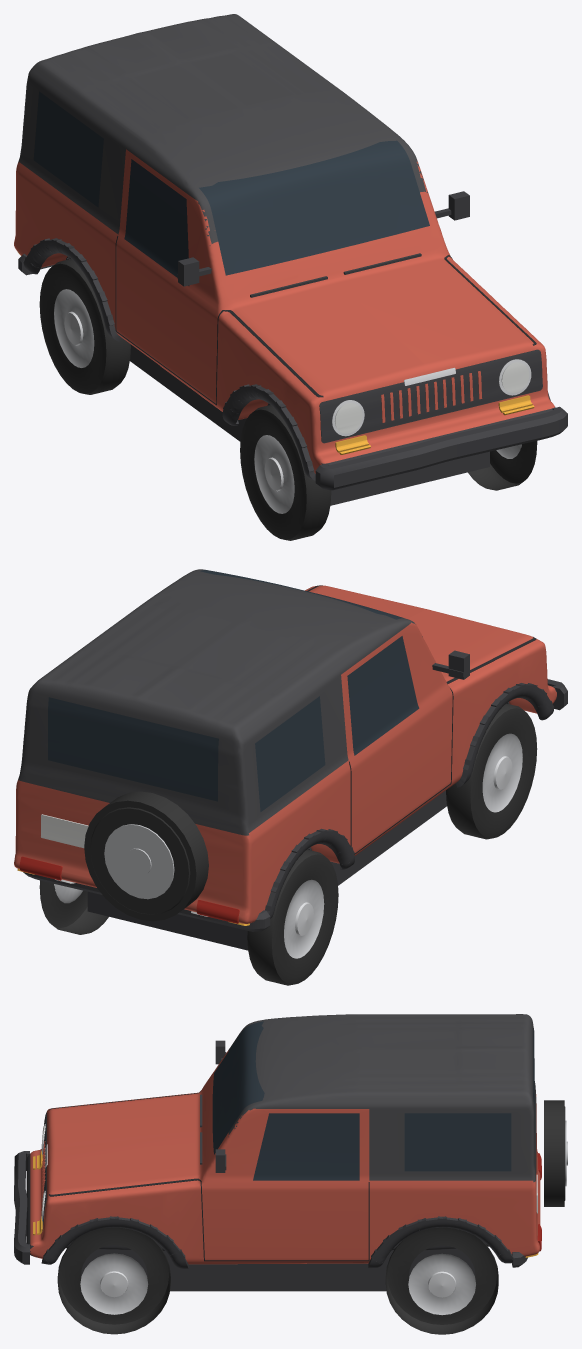
The picture shows the model from 3 angles, top to bottom: view 1: azimuth 30°, elevation 25°; view 2: azimuth 150°, elevation 25°; view 3: azimuth 270°, elevation 25°; orthographic projection. The views are drawn at different scales.
Visible parts, largest first — view 1: paint, glass, trim, wheel_rr, wheel_fr, wheel_fl, headlights; view 2: paint, trim, glass, wheel_rr, wheel_fr, wheel_rl, taillights; view 3: paint, trim, glass, wheel_rl, wheel_fl.
Part boxes in pixels (x1,y1,x2,y2): paint: [14, 14, 555, 473]; glass: [33, 91, 429, 285]; trim: [18, 191, 567, 505]; wheel_rr: [39, 259, 130, 394]; wheel_fr: [240, 405, 331, 540]; wheel_fl: [468, 441, 537, 490]; headlights: [335, 362, 529, 433]; paint: [14, 569, 556, 923]; trim: [23, 585, 567, 950]; glass: [48, 570, 419, 811]; wheel_rr: [247, 849, 338, 985]; wheel_fr: [446, 703, 537, 839]; wheel_rl: [39, 880, 108, 934]; taillights: [19, 856, 239, 923]; paint: [26, 1014, 540, 1264]; trim: [14, 1040, 567, 1291]; glass: [212, 1021, 534, 1180]; wheel_rl: [385, 1227, 498, 1334]; wheel_fl: [57, 1227, 170, 1334].
Bounding box in the file's own units: 1.68 × 1.65 × 3.43.
